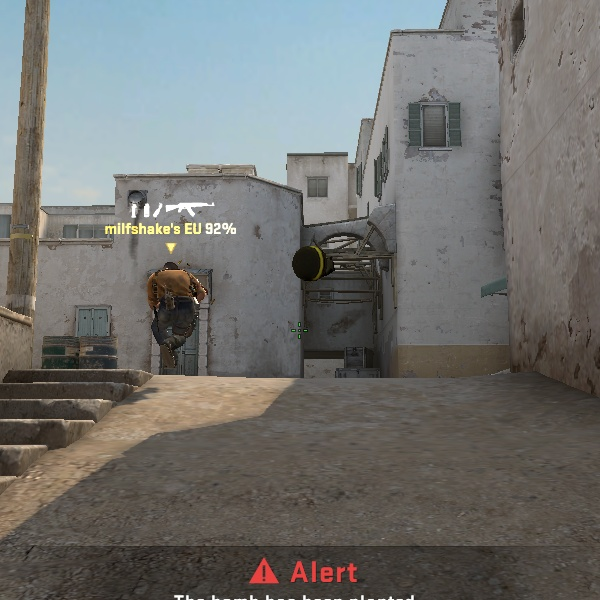t_body: (137, 251, 213, 378)
